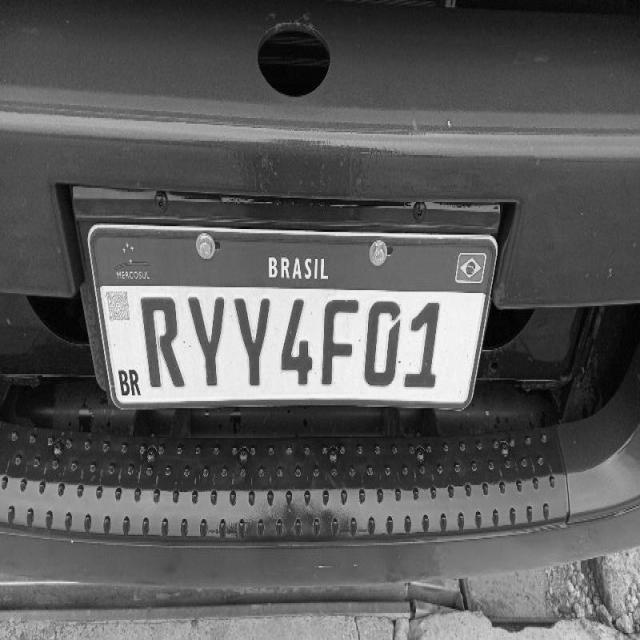placa_mercosul: (86, 224, 496, 408)
